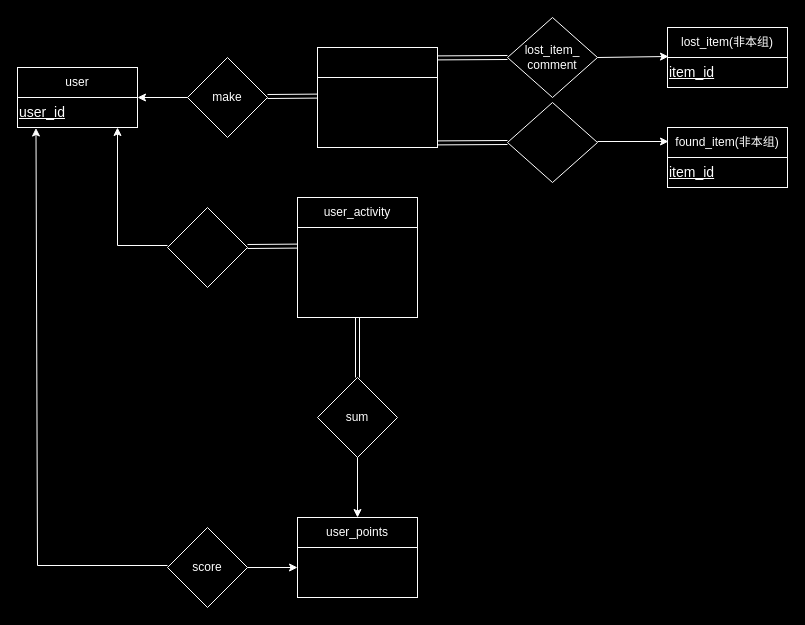
The diagram is 805 pixels wide and 625 high, and some of its shapes have lost their labels. The shapes that lost their labels are listed below. From the top down, each one's centre as x and y in pixels, then its label:
At point 377,62: "item_comments".
At point 377,112: "comment_id date content".
At point 552,142: "found_item_ comment".
At point 207,247: "action".
At point 357,272: "activity_id activity_type score date".
At point 357,572: "points change_date".
